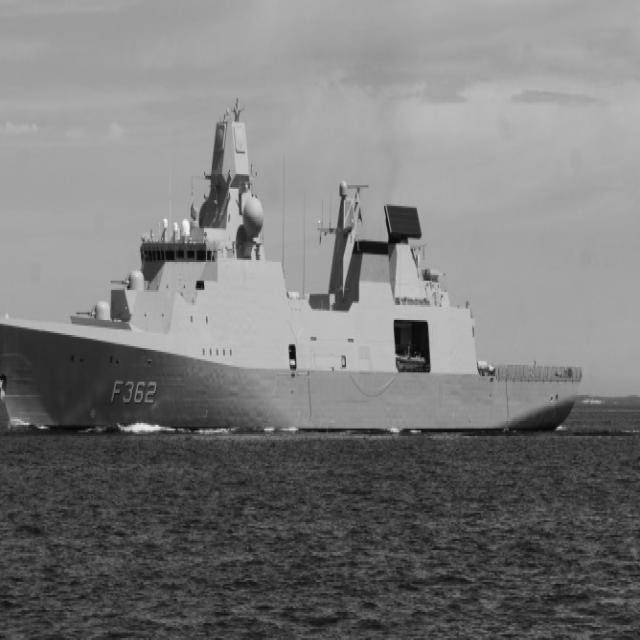Fragata: (1, 94, 585, 446)
